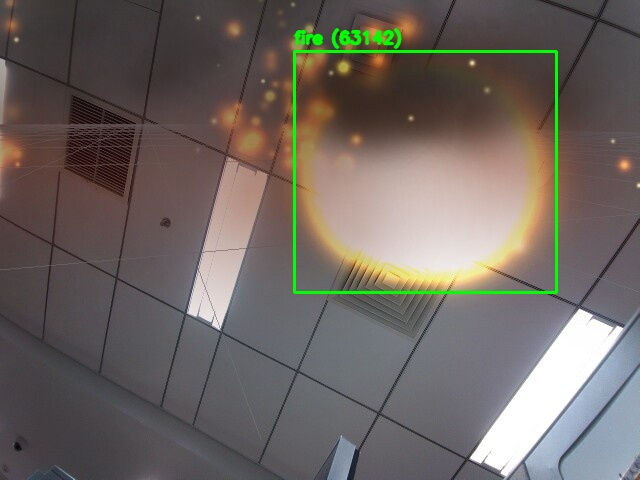fire: (294, 51, 556, 292)
